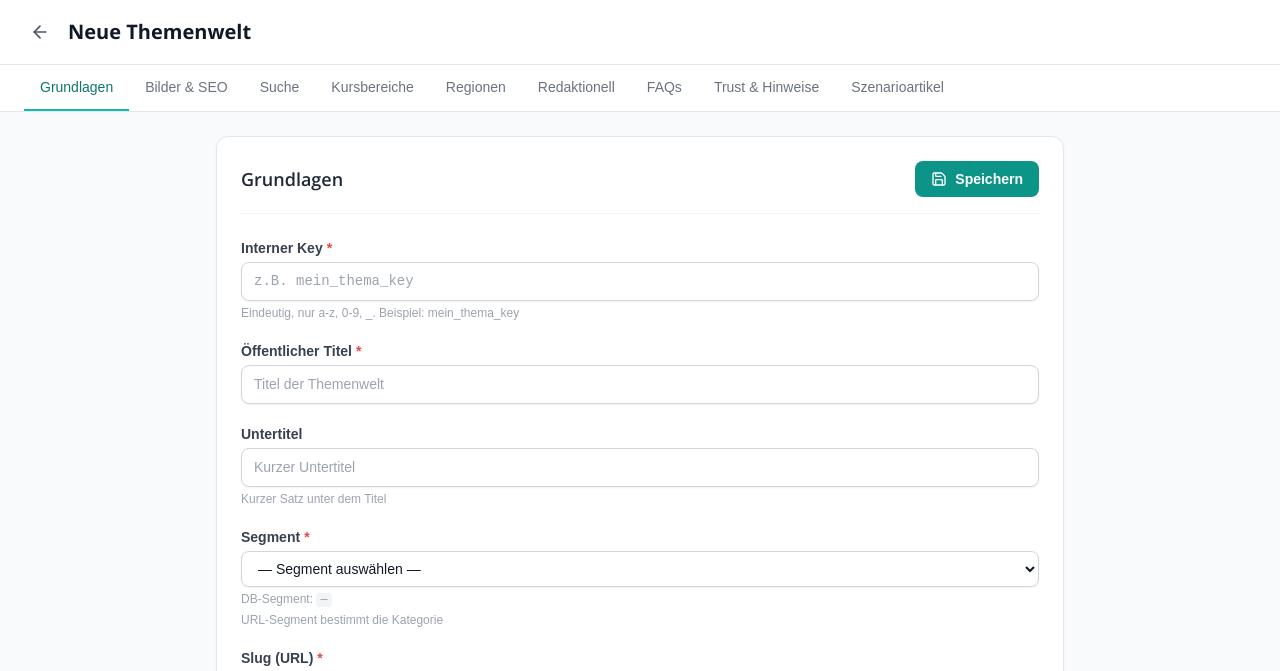
Test: Phase 8.1: AdminThemeWorldForm — Create-State-Isolation › Speichern: Create verwendet createThemeWorld › saveGrundlagen übergibt korrekten Payload an createThemeWorld
The image size is (1280, 671).
Type "test_kreativ_gestalten" into the field with placeholder "z.B. mein_thema_key". click: (640, 282)
box: x1=241 y1=262 x2=1039 y2=301
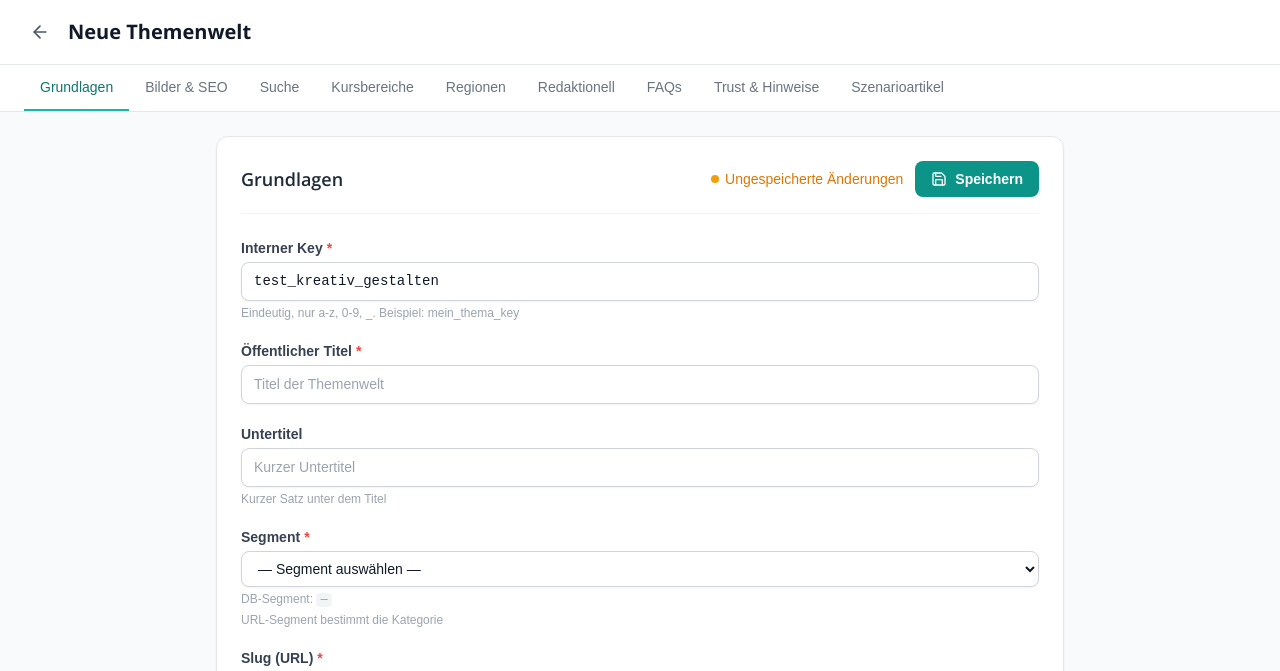
Type "Kreativ & Gestalten" into the field with placeholder "Titel der Themenwelt". click: (640, 384)
box: x1=241 y1=365 x2=1039 y2=404
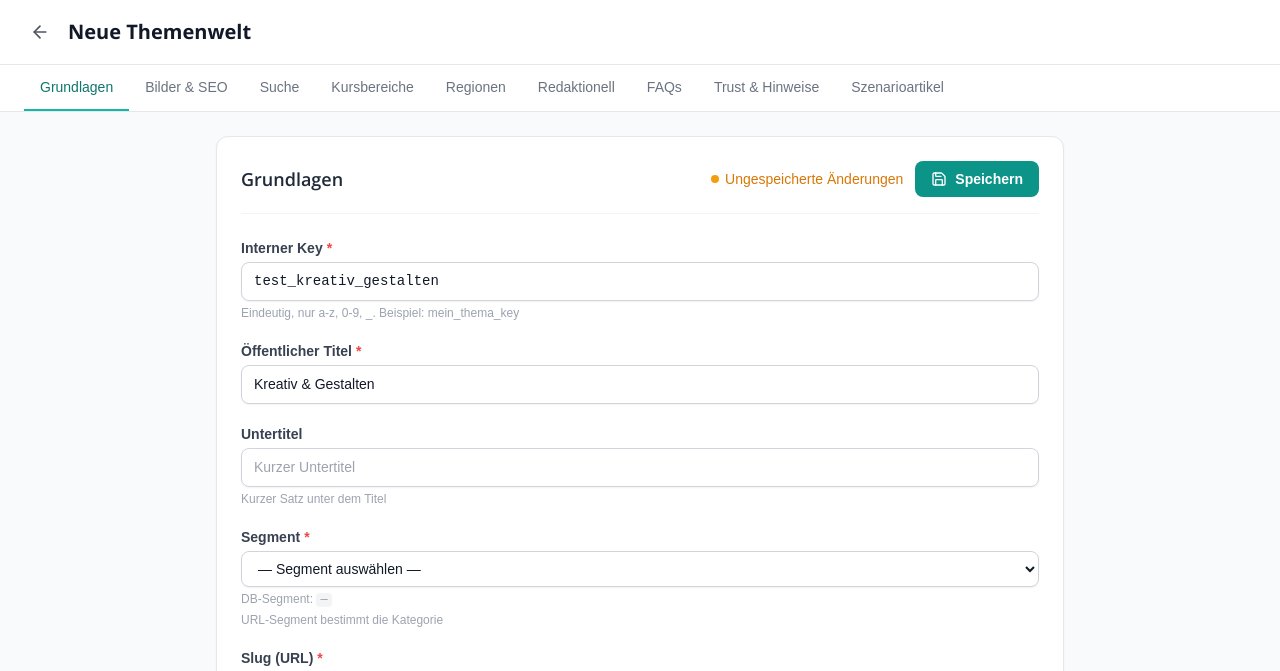
Select "Beruf & Karriere" in the dropdown. click: (640, 569)
box: x1=241 y1=551 x2=1039 y2=587
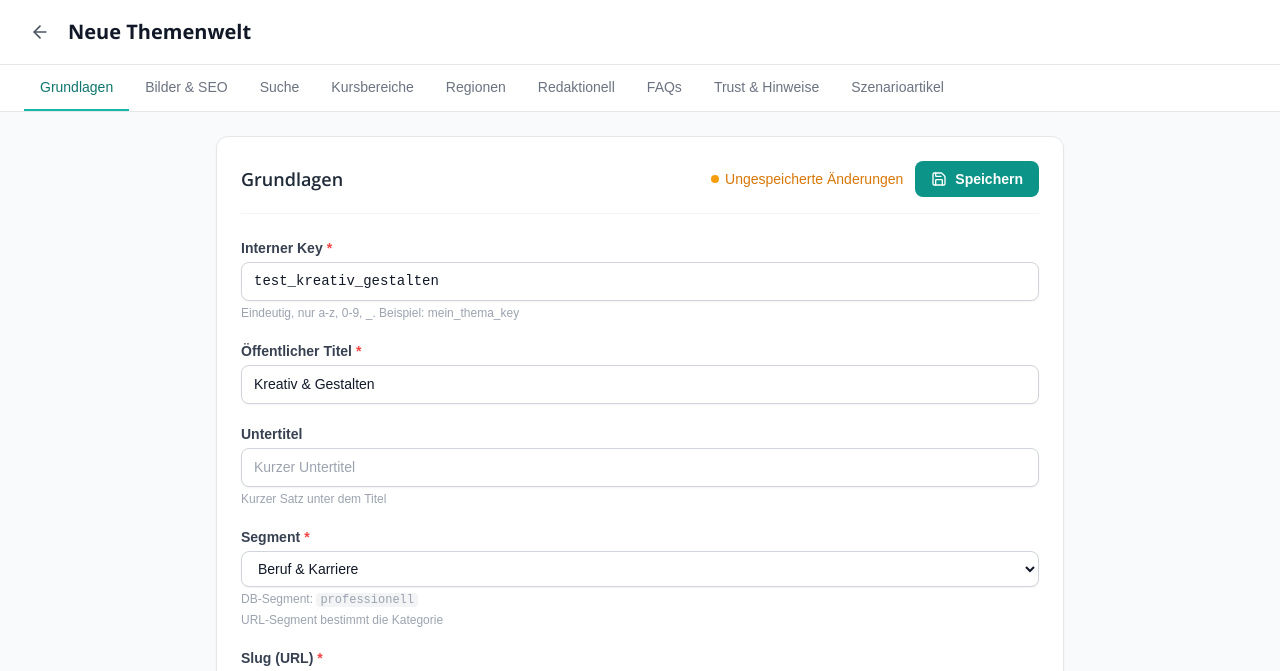
Click the button "Speichern". click: click(977, 179)
box: x1=915 y1=161 x2=1039 y2=197
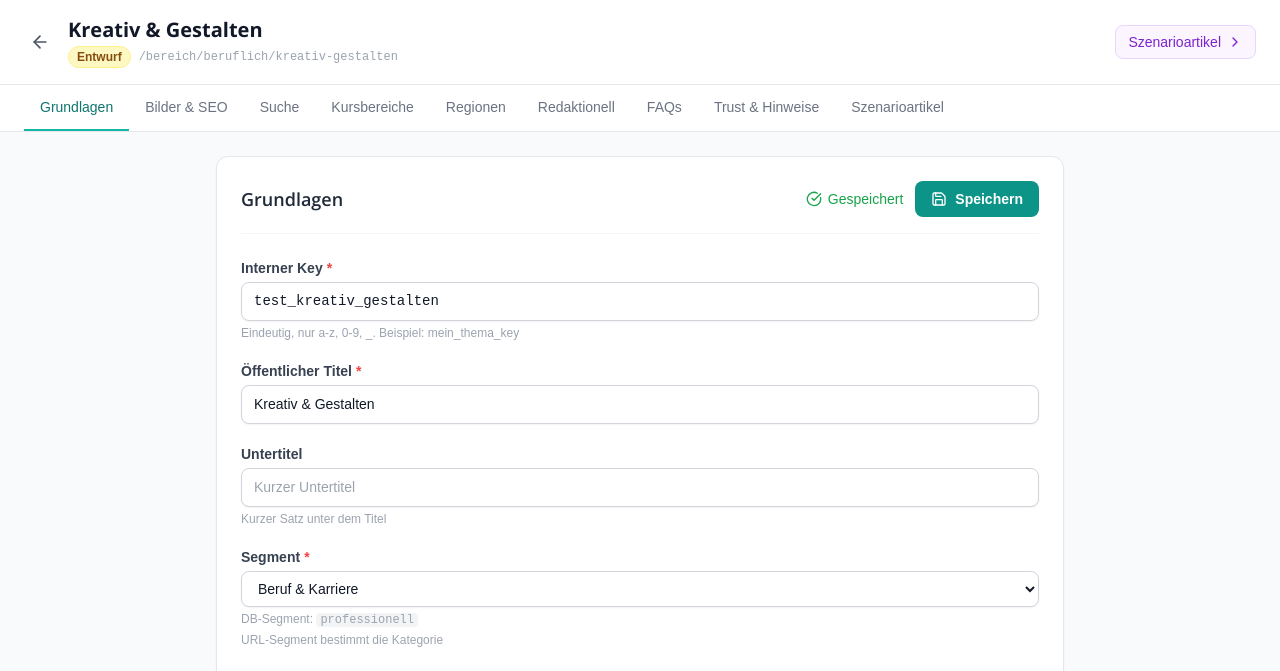
Check: the heading "Kreativ & Gestalten" is shown, box x1=68 y1=16 x2=263 y2=43
